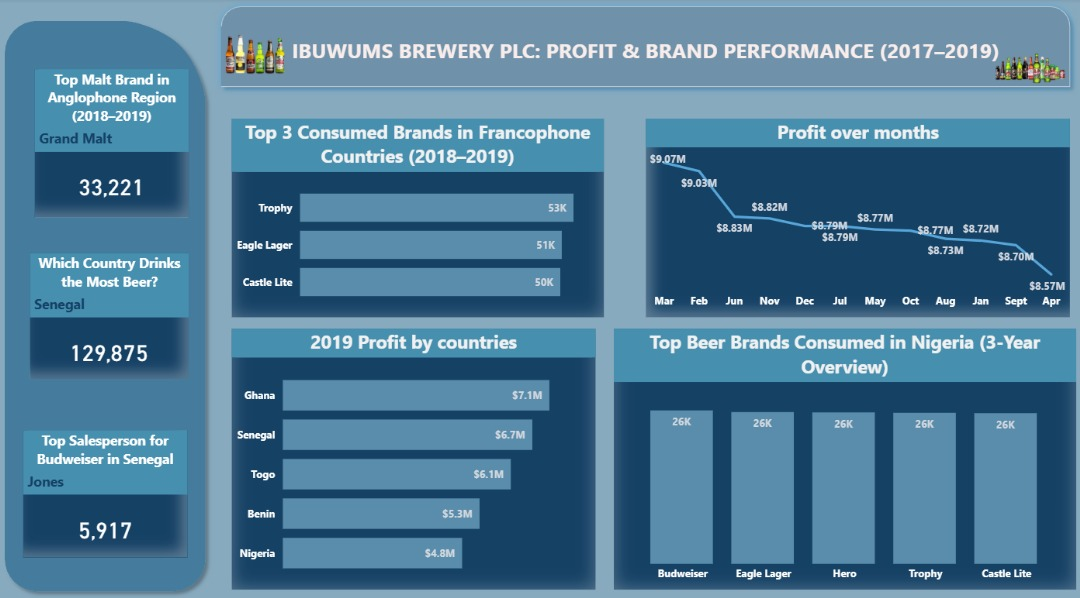

This screenshot's page, from the dashboard's own definition file:
{"tool":"powerbi","page":{"name":"Other countries","canvas":[1280,720],"ordinal":1},"visuals":[{"type":"shape","box":[0,16.8,252.9,686.7],"z":0},{"type":"lineChart","title":"Profit over months","fields":{"Category":["Q9  profit over the month.MONTHS"],"Y":["Sum(Q9  profit over the month.total_profit)"]},"box":[758.7,140.2,496.2,232.5],"z":1000},{"type":"barChart","title":"Top 3 Consumed Brands in Francophone Countries (2018–2019)","fields":{"Category":["Q10  top three brands consumed.BRANDS"],"Y":["Sum(Q10  top three brands consumed.Qty_consumed)"]},"box":[274.5,140.2,435.1,232.5],"z":2000},{"type":"columnChart","title":"Top Beer Brands Consumed in Nigeria (3-Year Overview)","fields":{"Category":["Q12 beers consumed in the past.BRANDS"],"Y":["Sum(Q12 beers consumed in the past.total_Qty)"]},"box":[721.5,387.1,540.5,305.6],"z":3000},{"type":"cardVisual","title":"Top Malt Brand in Anglophone Region (2018–2019)","fields":{"Data":["Sum(Q13 favorites malt brand in Ang.Total_Qty)"]},"box":[44.3,82.7,179.8,173.8],"z":4000},{"type":"clusteredBarChart","title":"2019 Profit by countries","fields":{"Category":["Q3  Country that generated the.countries"],"Y":["Sum(Q3  Country that generated the.Profit_2019)"]},"box":[274.5,387.1,425.5,305.6],"z":5000},{"type":"cardVisual","title":"Which Country Drinks the Most Beer?","fields":{"Data":["Sum(Q19 Country with the highest co.total_quantity)"]},"box":[38.4,298.4,185.8,147.4],"z":6000},{"type":"shape","title":"IBUWUMS BREWERY PLC: Profit & Brand Performance (2017–2019)","box":[252.9,0,1011.5,112.7],"z":7000},{"type":"image","box":[1162.5,53.9,92.3,56.3],"z":8000},{"type":"image","box":[261.3,32.4,81.5,65.9],"z":9000},{"type":"cardVisual","title":"Top Salesperson for Budweiser in Senegal","fields":{"Data":["Sum(Q20 Highest sales personnel of.Quantity_sold)"]},"box":[31.2,505.8,191.8,148.6],"z":10000}]}

Visuals, with their boxes in screenshot pixels (x1, y1, x2, y2), scaled from the page's 1280x720 canvas onto the 1080x598 screenshot:
shape: 0,14,213,584
"Profit over months" lineChart: 640,116,1059,310
"Top 3 Consumed Brands in Francophone Countries (2018–2019)" barChart: 232,116,599,310
"Top Beer Brands Consumed in Nigeria (3-Year Overview)" columnChart: 609,322,1065,575
"Top Malt Brand in Anglophone Region (2018–2019)" cardVisual: 37,69,189,213
"2019 Profit by countries" clusteredBarChart: 232,322,591,575
"Which Country Drinks the Most Beer?" cardVisual: 32,248,189,370
"IBUWUMS BREWERY PLC: Profit & Brand Performance (2017–2019)" shape: 213,0,1067,94
image: 981,45,1059,92
image: 220,27,289,82
"Top Salesperson for Budweiser in Senegal" cardVisual: 26,420,188,544
